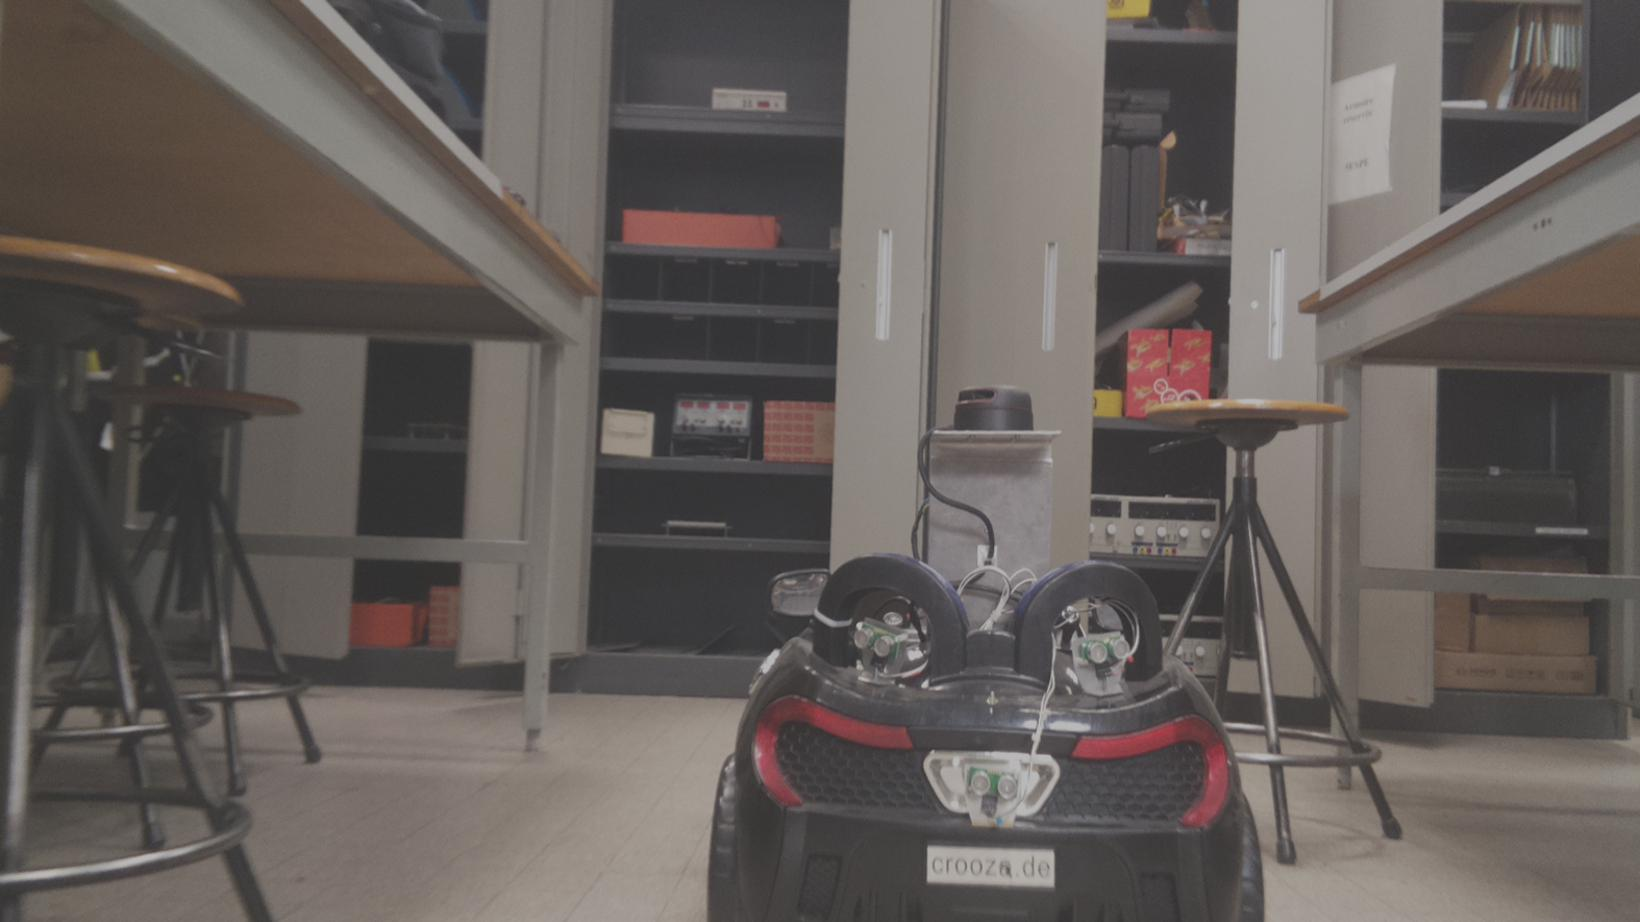big: (699, 547, 1269, 922)
